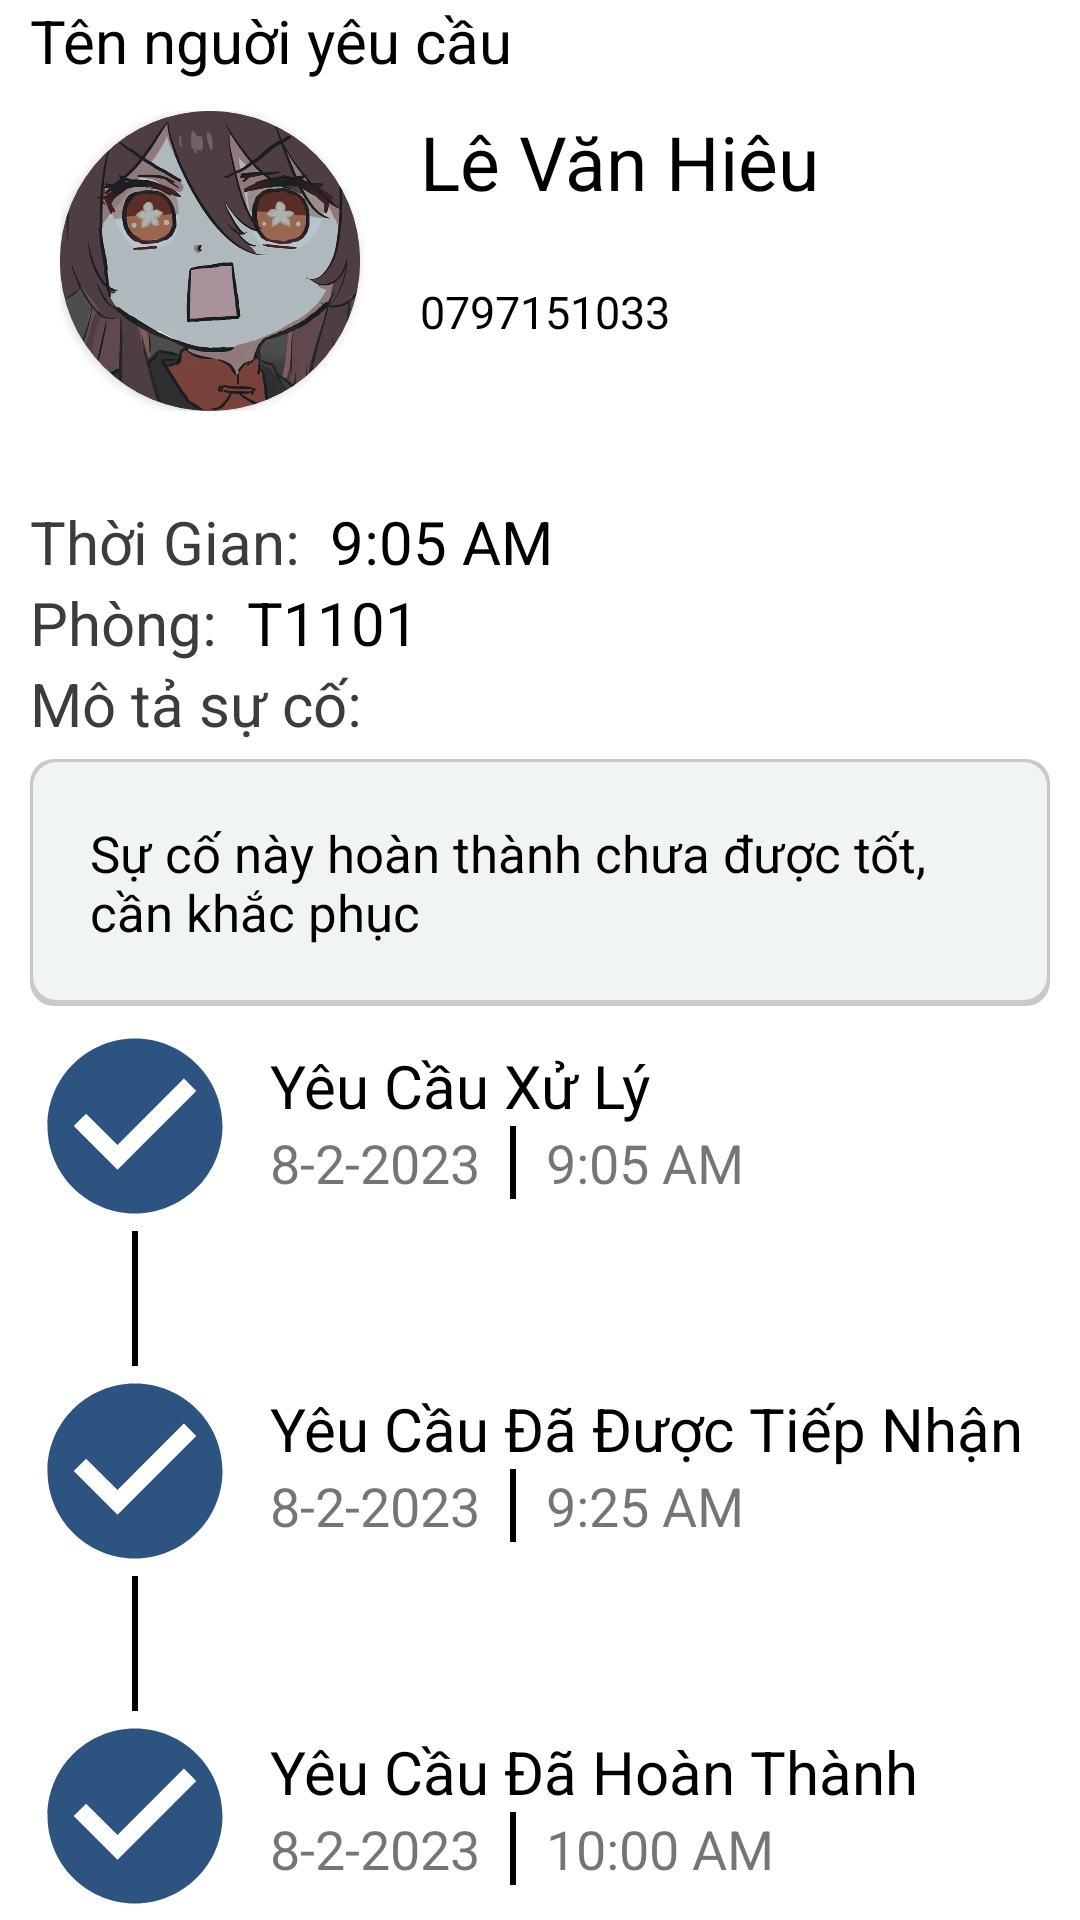

Icon bounding boxes for this 1080×1920 phone screenshot, format (x1, y1, x2, y2):
check circle: (47, 1038, 223, 1214), (47, 1383, 223, 1559), (47, 1728, 223, 1904)
